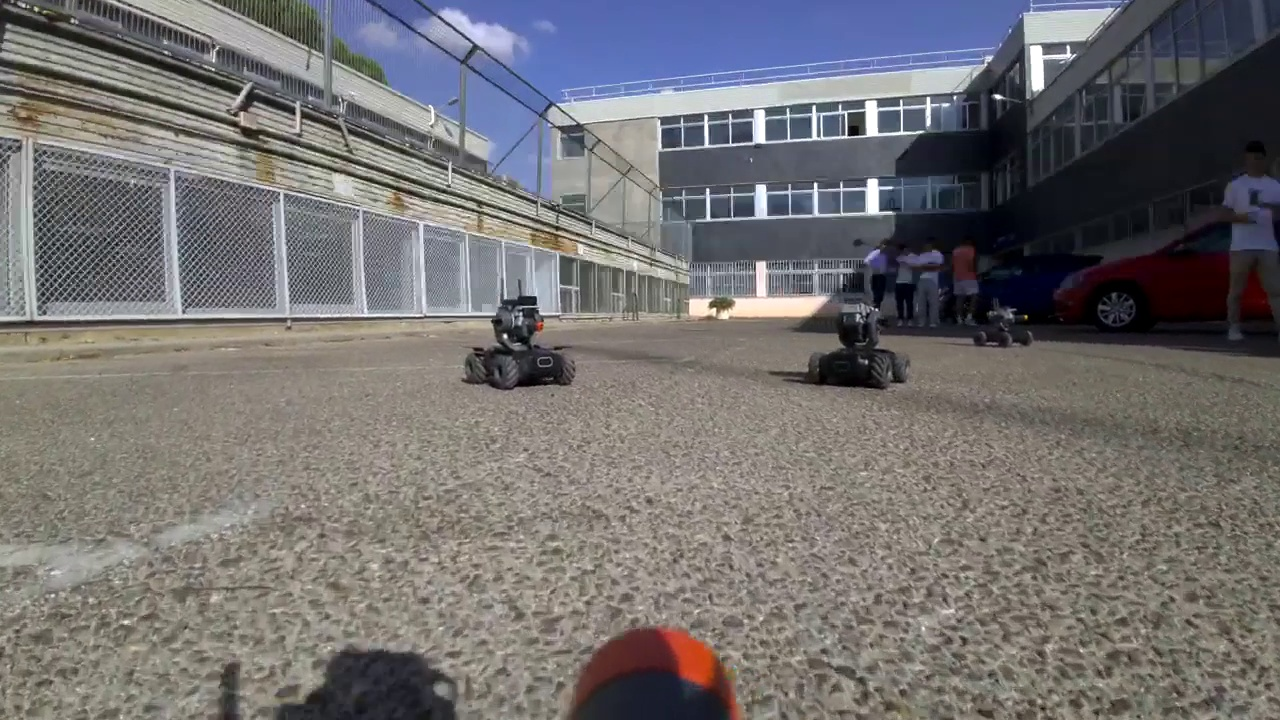robot: (461, 278, 576, 388), (806, 299, 912, 394), (975, 297, 1037, 351)
